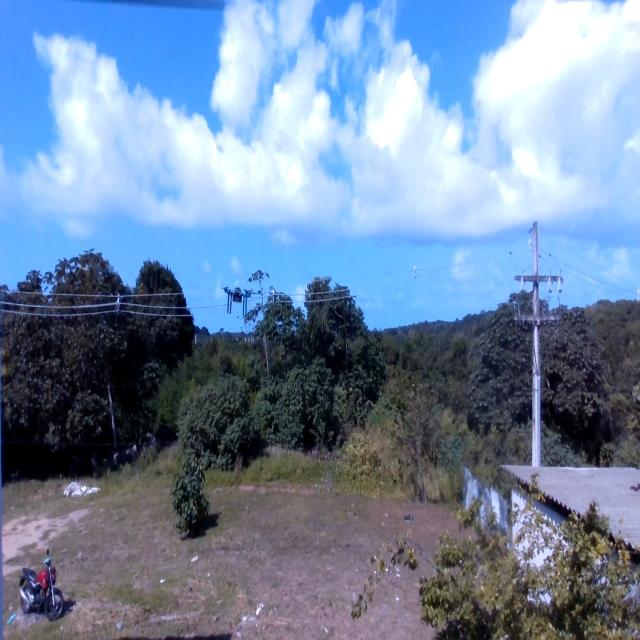-uav-: (220, 277, 256, 323)
